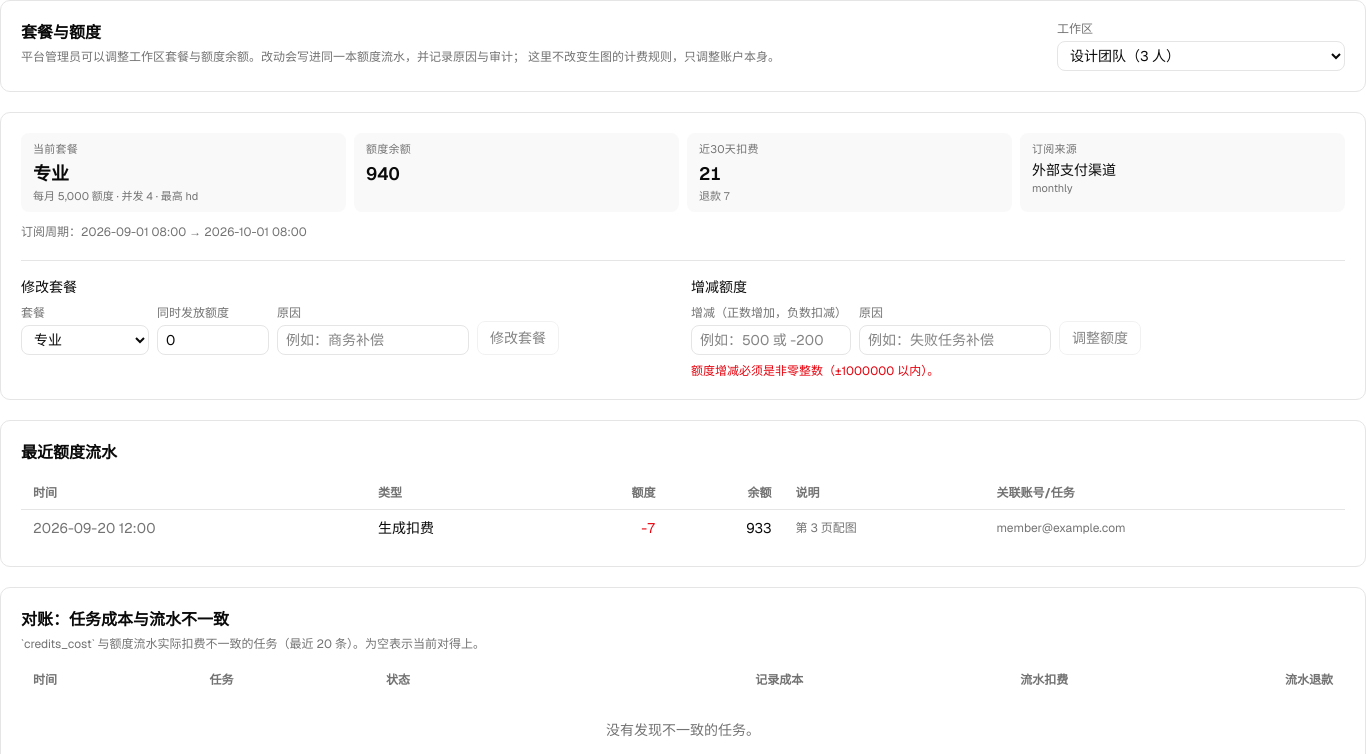
it: admin billing section › requires a reason and an explicit confirmation before changing the plan
Expected: the button "修改套餐" is disabled, [477, 321, 559, 355]
Step 1. Select "旗舰" in the dropdown named "选择套餐" → (85, 340), box [21, 325, 149, 355]
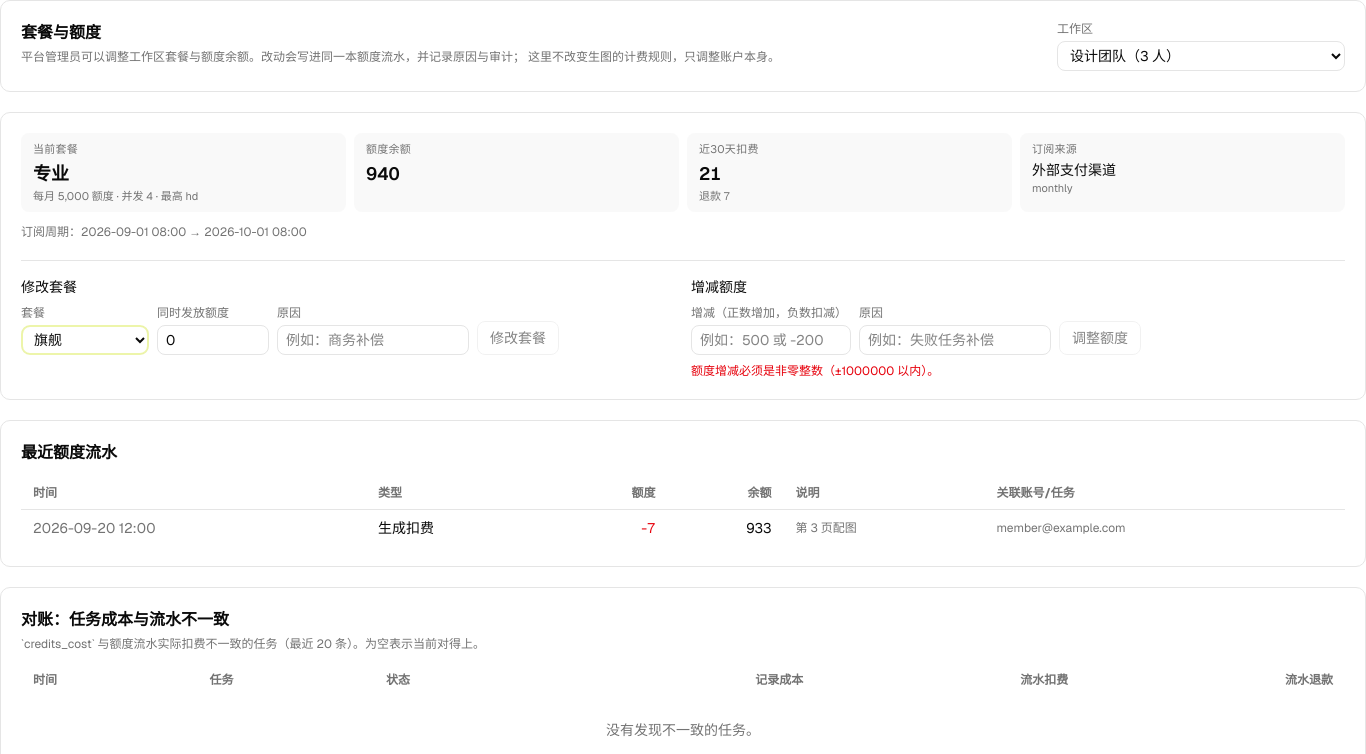
Step 2. Replace the text in the field labelled "同时发放额度" with "500" → (213, 340), box [157, 325, 269, 355]
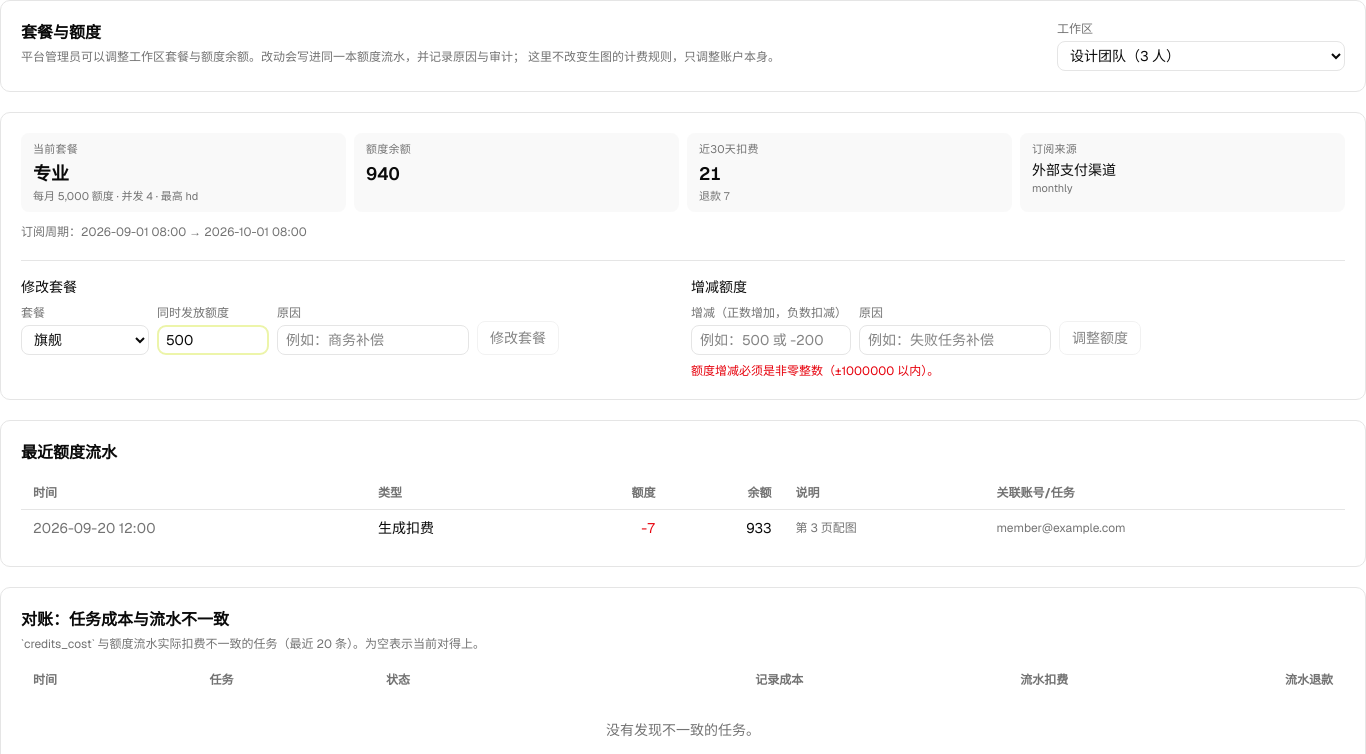
Step 3. Type "商务补偿" into the field named "修改套餐原因" → (373, 340), box [277, 325, 469, 355]
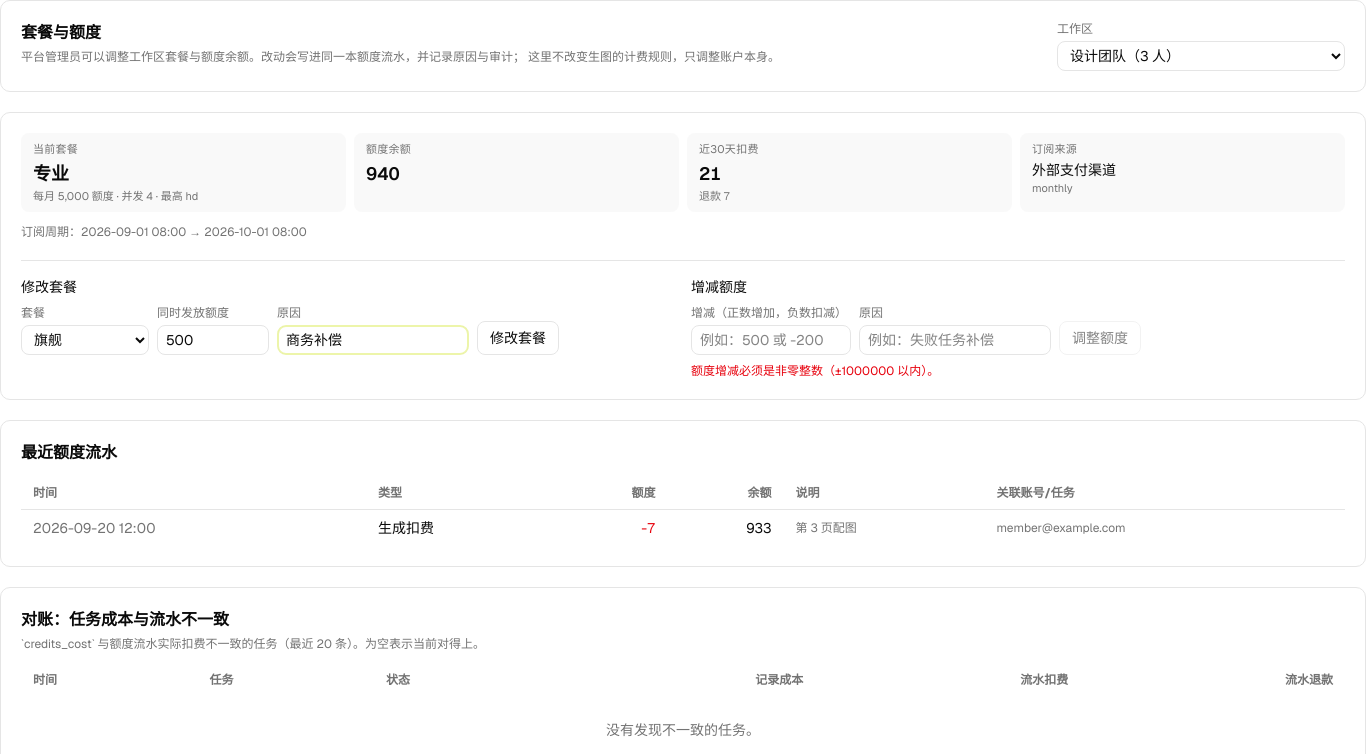
Expected: the button "修改套餐" is enabled
Step 4. Click the button "修改套餐" → (518, 338), box [477, 321, 559, 355]
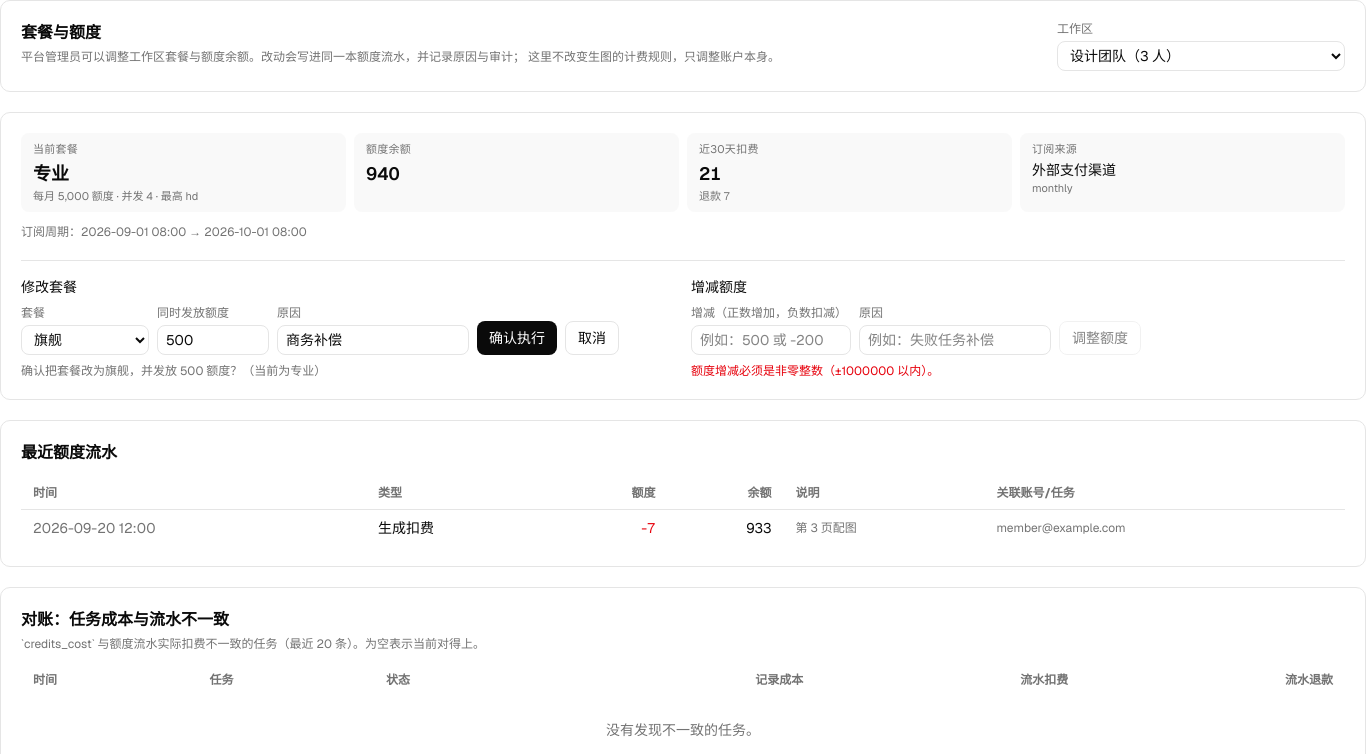
Expected: the text with test id "admin-billing-plan-confirm" reads "确认把套餐改为旗舰，并发放 500 额度？（当前为专业）", [21, 363, 326, 379]
Step 5. Click the button "确认执行" → (517, 338), box [477, 321, 557, 355]
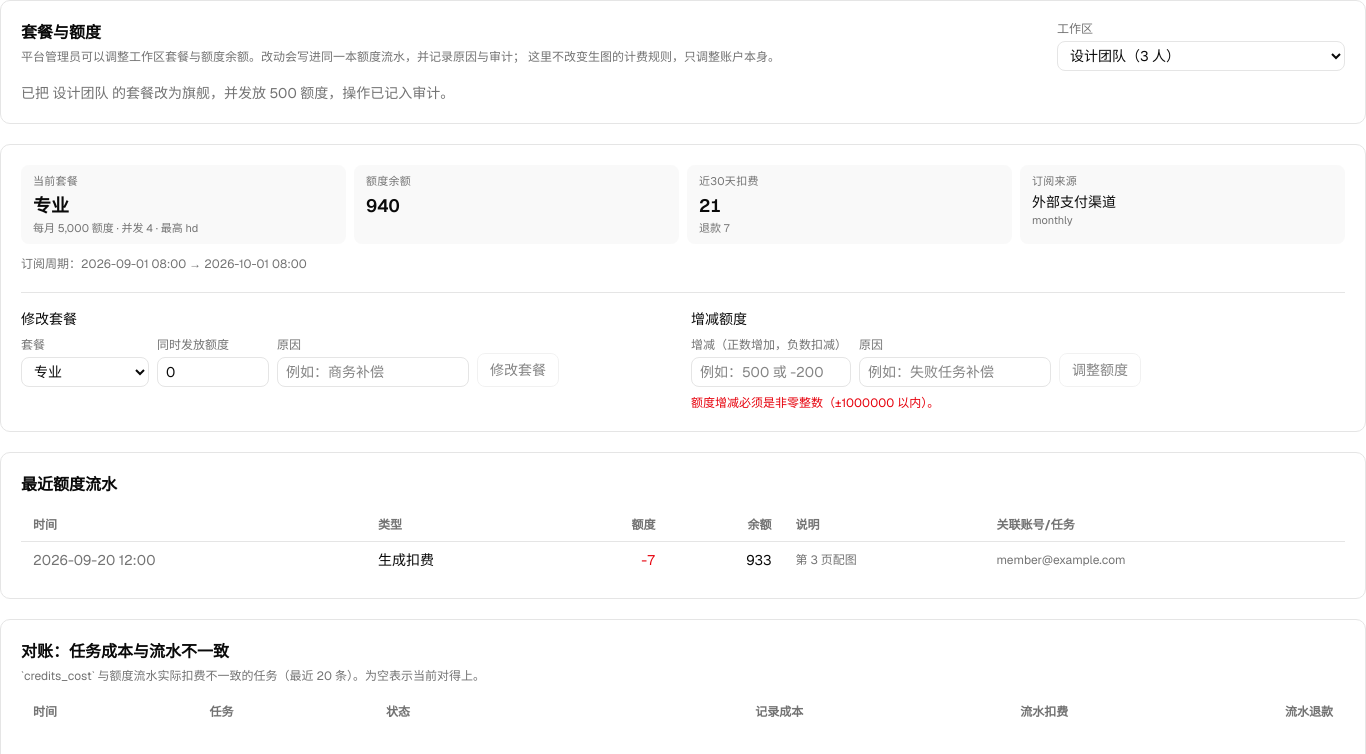
Expected: the text with test id "admin-billing-feedback" shows "已把 设计团队 的套餐改为旗舰", [21, 84, 454, 102]
